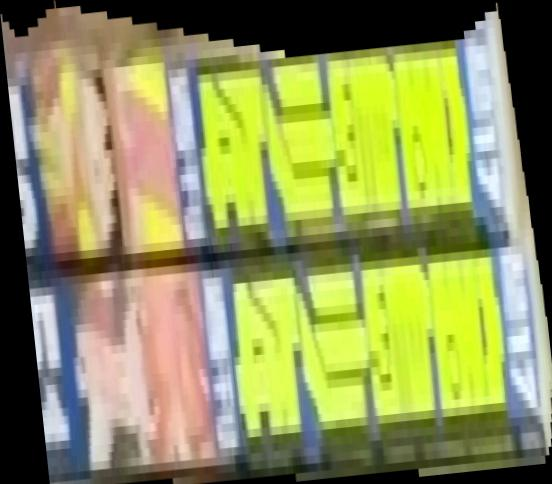flat: (1, 1, 552, 484)
